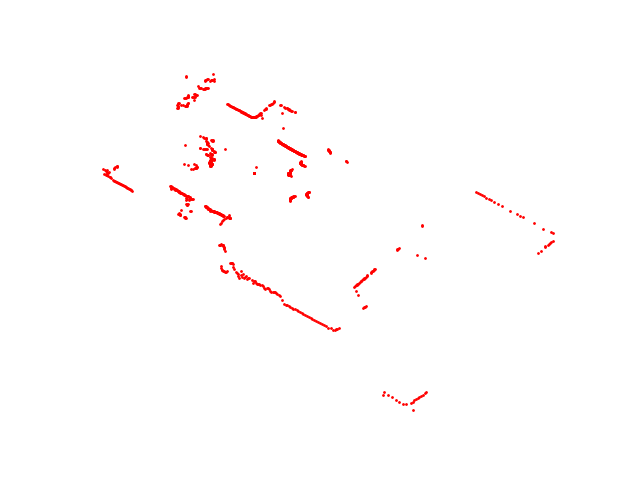person: (286, 186, 315, 205), (216, 241, 230, 277), (286, 157, 308, 178)
